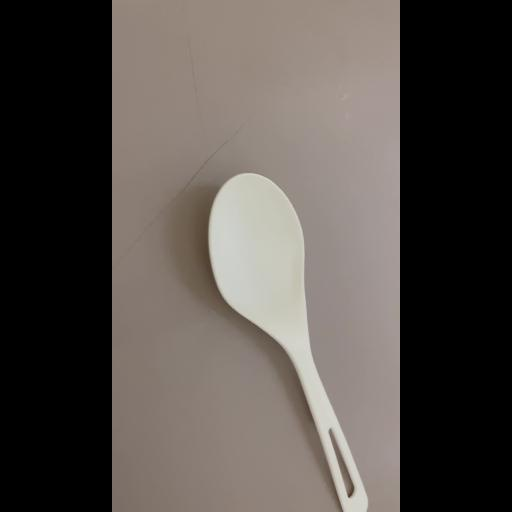utensil: (202, 166, 376, 512)
